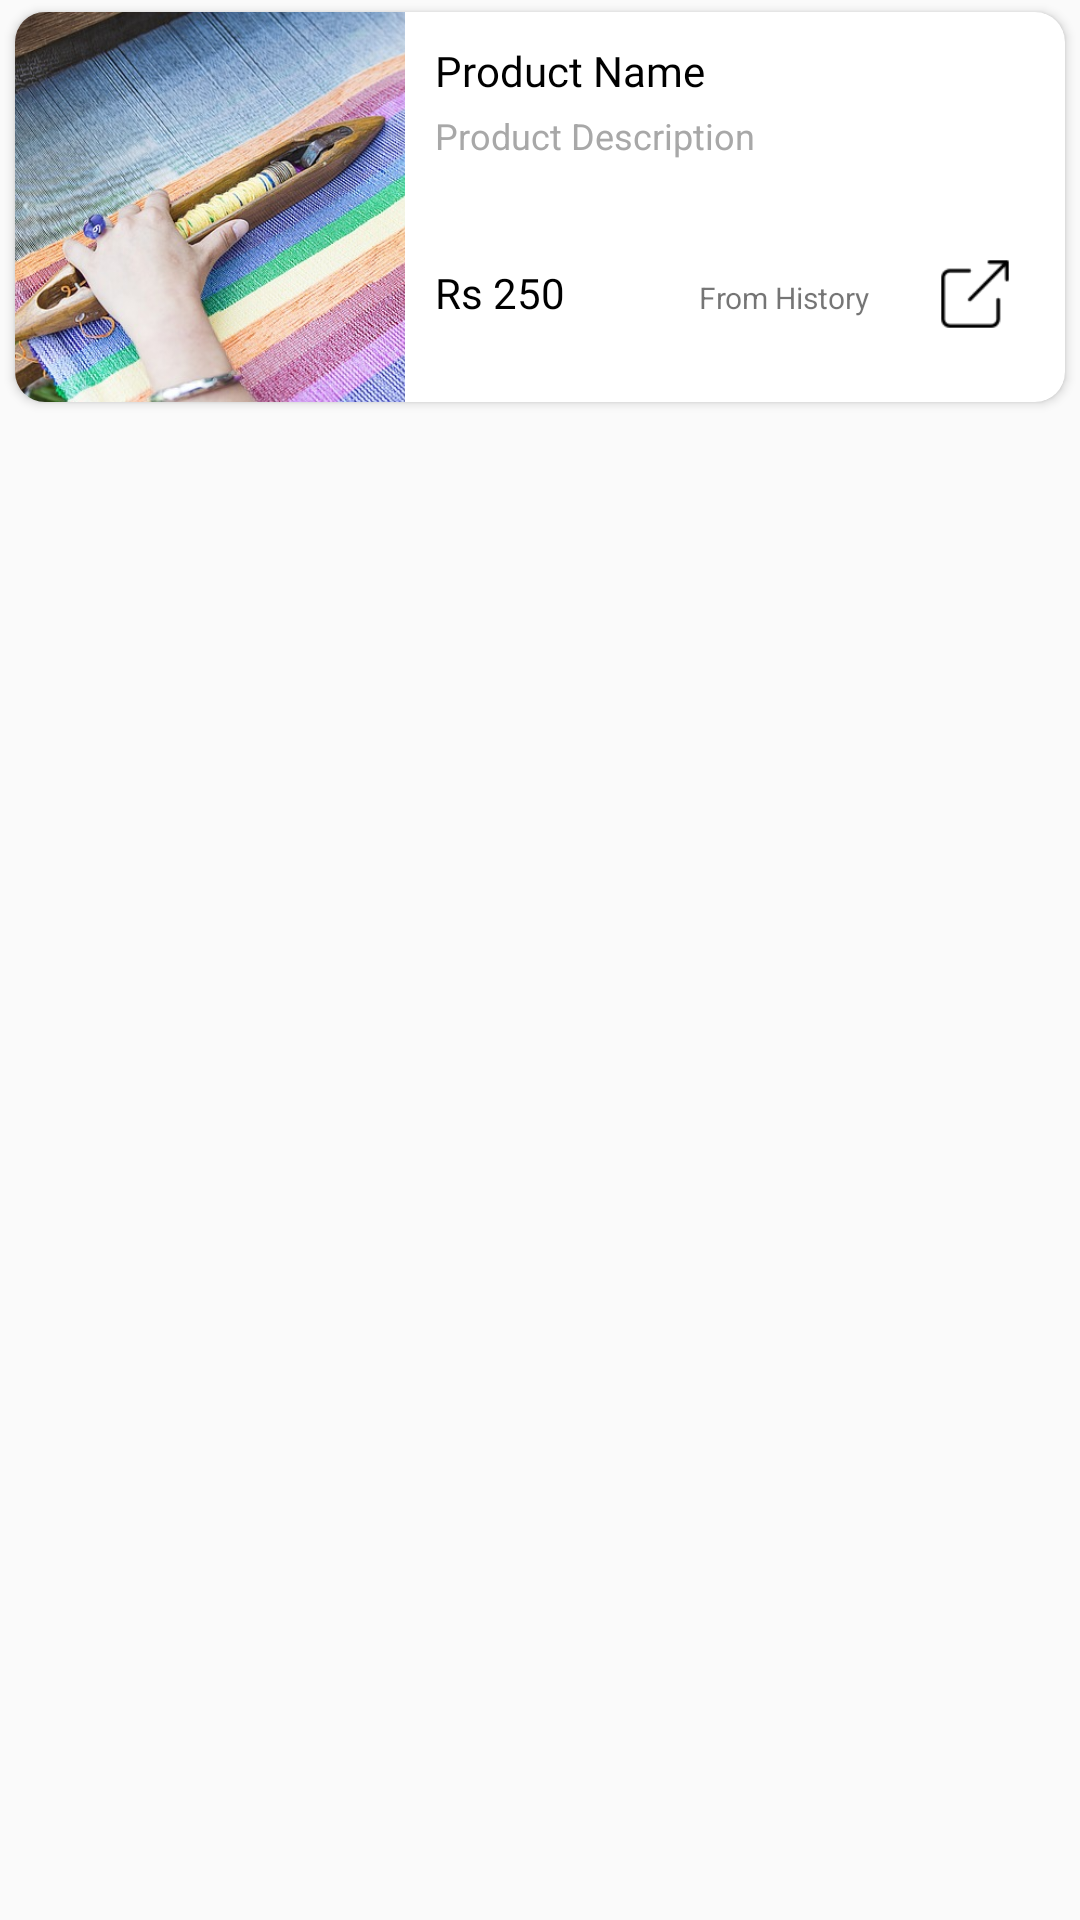

Icon click points for this 1080px×1920px phone screenshot, format point (x, y):
share: point (975, 294)
